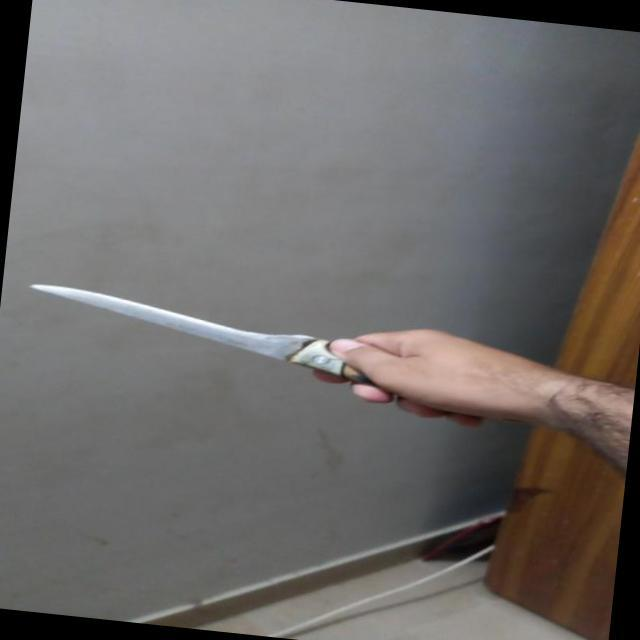Knife: (8, 277, 535, 434)
